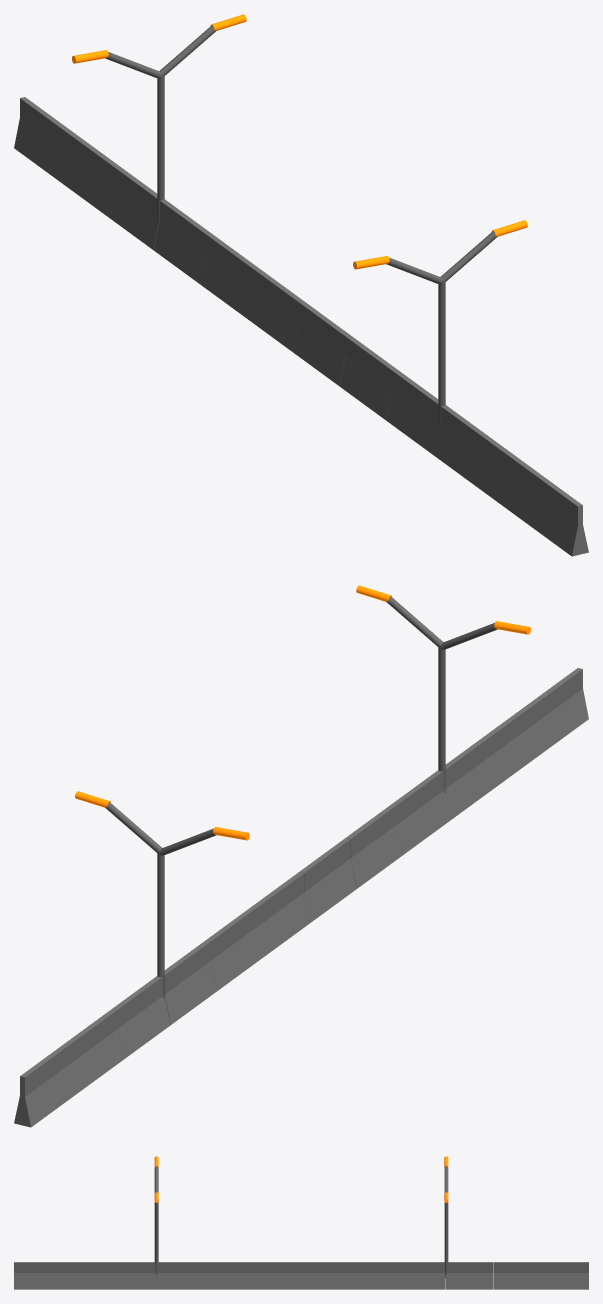
Rendered from divider 2.fbx.
3 renders of one model, top to bottom at view 1: azimuth 30°, elevation 25°; view 2: azimuth 150°, elevation 25°; view 3: azimuth 270°, elevation 25°, orthographic. The views are drawn at different scales.
Visible parts, largest first — view 1: Cube.047, Cube.038, Cube.043, Cube.039, Cube.045, Cube.046, Cube.048, Cube.040, Cube.042, Cube.037, Cube.044, Cube.036 (+2 smaller); view 2: Cube.046, Cube.038, Cube.043, Cube.039, Cube.042, Cube.045, Cube.048, Cube.047, Cube.037, Cube.040, Cube.044, Cube.036 (+2 smaller); view 3: Cube.038, Cube.039, Cube.037, Cube.040, Cube.036, Cube.042, Cube.043, Cube.045, Cube.046, Cube.047, Cube.048, Cube.044 (+2 smaller).
Part boxes in pixels (box(x1,y1,x2,y2)): Cube.047: box(525, 471, 588, 556); Cube.038: box(340, 335, 396, 420); Cube.043: box(154, 199, 210, 283); Cube.039: box(293, 301, 350, 386); Cube.045: box(60, 131, 117, 215); Cube.046: box(14, 97, 70, 181); Cube.048: box(479, 437, 535, 522); Cube.040: box(247, 267, 303, 351); Cube.042: box(200, 233, 257, 318); Cube.037: box(386, 369, 438, 454); Cube.044: box(107, 165, 159, 250); Cube.036: box(433, 405, 489, 488); Cube.046: box(14, 1042, 77, 1127); Cube.038: box(346, 804, 403, 888); Cube.043: box(164, 940, 216, 1025); Cube.039: box(299, 838, 356, 922); Cube.042: box(206, 906, 263, 990); Cube.045: box(67, 1008, 123, 1093); Cube.048: box(485, 702, 542, 786); Cube.047: box(532, 668, 588, 752); Cube.037: box(392, 770, 449, 854); Cube.040: box(253, 872, 309, 956); Cube.044: box(113, 976, 170, 1059); Cube.036: box(444, 736, 495, 820); Cube.038: box(205, 1262, 253, 1289); Cube.039: box(253, 1262, 301, 1289); Cube.037: box(157, 1262, 205, 1289); Cube.040: box(301, 1262, 349, 1289); Cube.036: box(109, 1262, 157, 1289); Cube.042: box(349, 1262, 396, 1289); Cube.043: box(397, 1262, 444, 1289); Cube.045: box(493, 1262, 540, 1289); Cube.046: box(541, 1262, 588, 1289); Cube.047: box(14, 1262, 61, 1289); Cube.048: box(62, 1262, 109, 1289); Cube.044: box(445, 1262, 492, 1289).
Bounding box in the file's own units: 1226 × 1453 × 6919.
